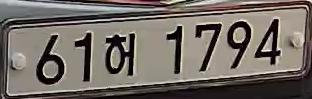1: (70, 29, 101, 86), (163, 22, 190, 78)
4: (253, 17, 286, 67)
6: (34, 33, 68, 90)
7: (190, 21, 225, 73)
9: (223, 17, 253, 72)
허: (100, 30, 145, 82)
